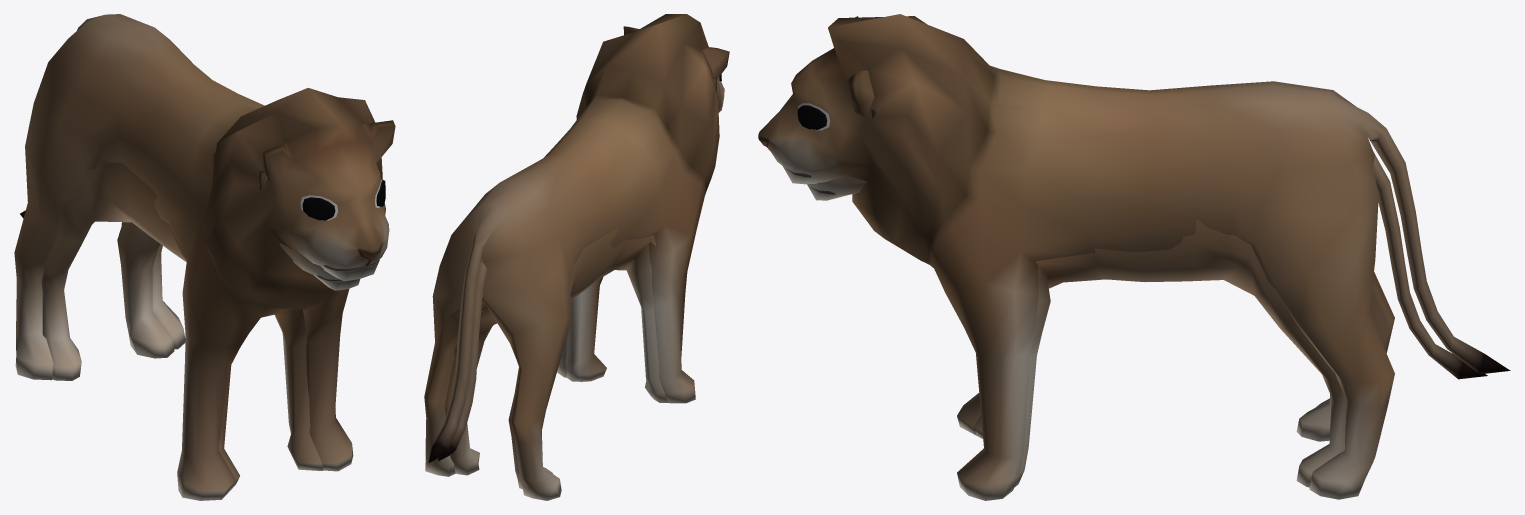
Rendered from lion.glb.
3 views of the same model, side by side, from view 1: azimuth 30°, elevation 25°; view 2: azimuth 150°, elevation 25°; view 3: azimuth 270°, elevation 25° (orthographic). The views are drawn at different scales.
Parts seen in each view (by area): view 1: alt604; view 2: alt604; view 3: alt604.
Part boxes in pixels (x1,y1,x2,y2): alt604: (14,14,395,500); alt604: (424,14,729,500); alt604: (758,14,1510,500).
Bounding box in the file's own units: 66.99 × 156 × 240.
